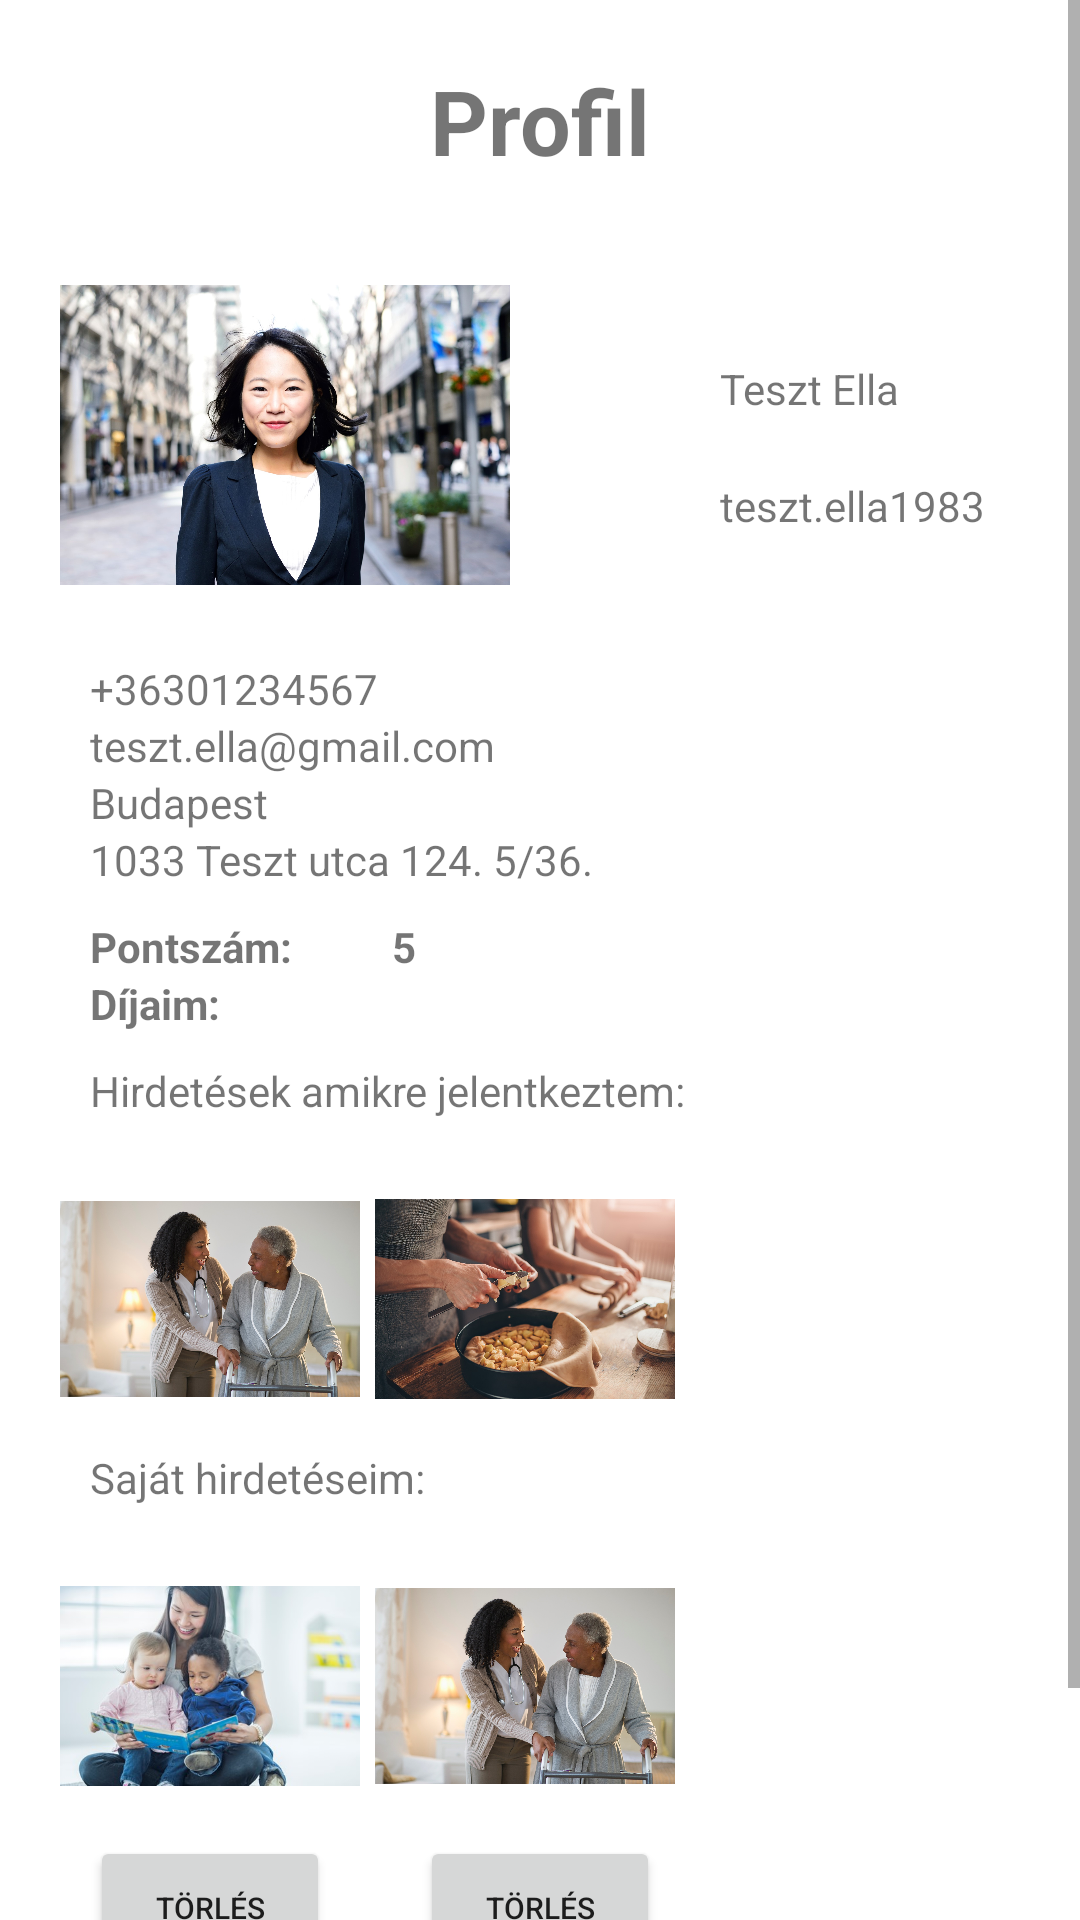

Named icons in this screenshot (1080×1920) and their bounding boxes, Rect(x1, y1, x2, y2):
fozes: Rect(375, 1199, 675, 1399)
gyermekfelugyelet: Rect(60, 1586, 360, 1786)
idosgondozas: Rect(60, 1201, 360, 1397), Rect(375, 1588, 675, 1784)
